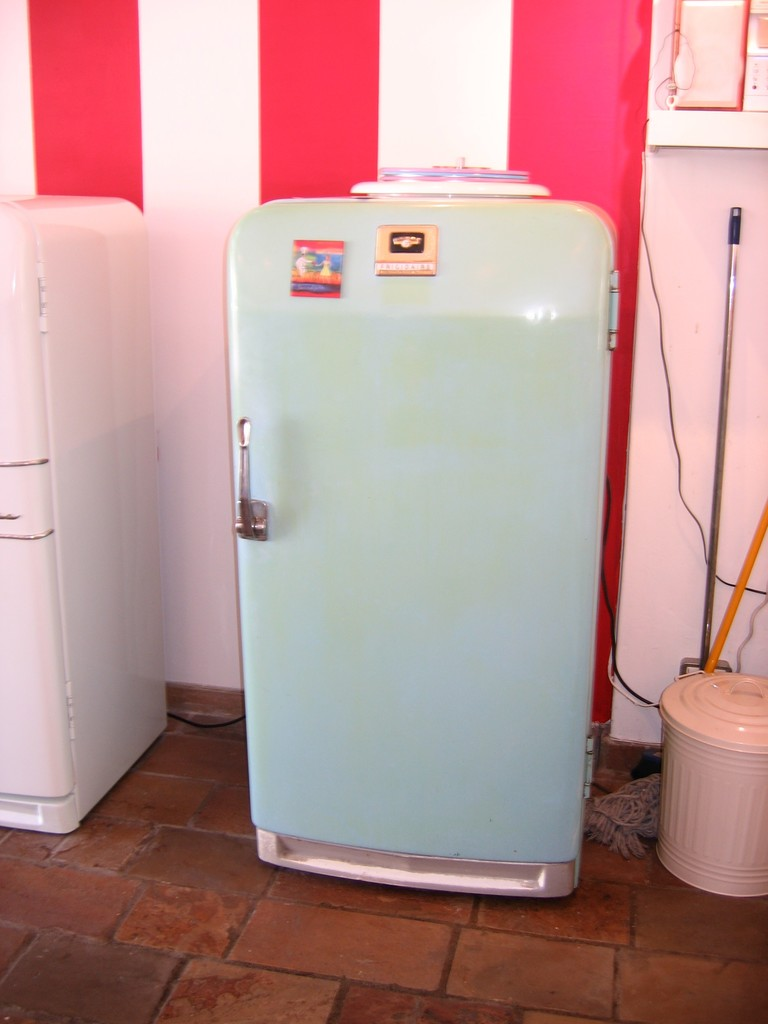handle: (227, 422, 271, 542)
refrigerator door: (241, 229, 586, 836), (5, 491, 62, 789), (0, 260, 46, 457)
